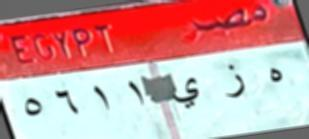1: (123, 78, 145, 108), (90, 84, 113, 112)
5: (18, 92, 44, 121)
6: (53, 85, 81, 118)
haa: (266, 59, 287, 90)
yaa: (169, 72, 204, 111)
zay: (221, 60, 248, 103)
